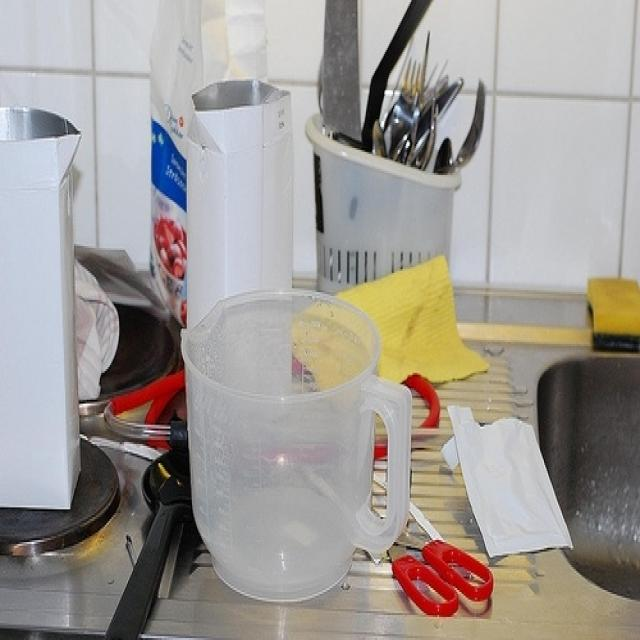Metal: (321, 5, 507, 165)
Plastics: (143, 281, 424, 607)
can: (0, 90, 118, 546)
